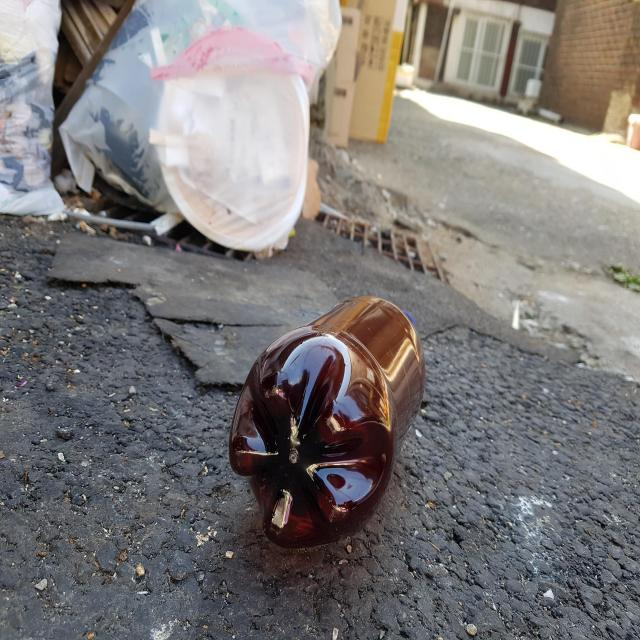plastic: (229, 296, 426, 548)
